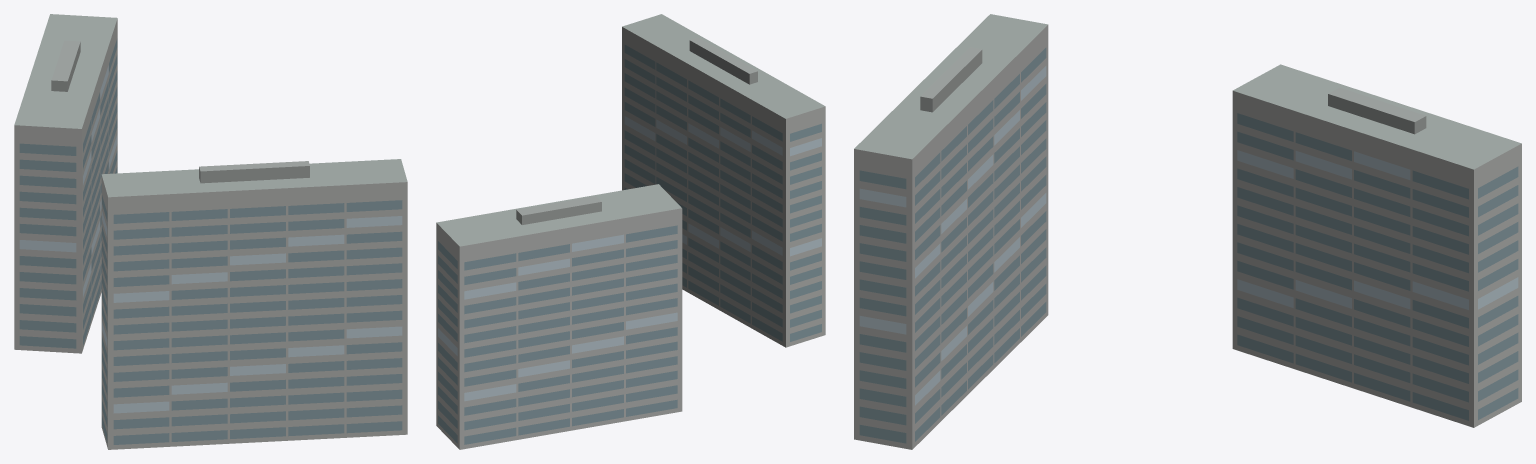
Rendered from apt-a13373101.glb.
The picture shows the model from 3 angles, left to right: view 1: azimuth 30°, elevation 25°; view 2: azimuth 150°, elevation 25°; view 3: azimuth 270°, elevation 25°; orthographic projection. The views are drawn at different scales.
Parts seen in each view (by area): view 1: apt-a13373101; view 2: apt-a13373101; view 3: apt-a13373101.
Part boxes in pixels (x1,y1,x2,y2): apt-a13373101: (14,14,407,449); apt-a13373101: (436,14,825,449); apt-a13373101: (854,14,1521,449).
Bounding box in the file's own units: 46.1 × 45 × 89.51.
